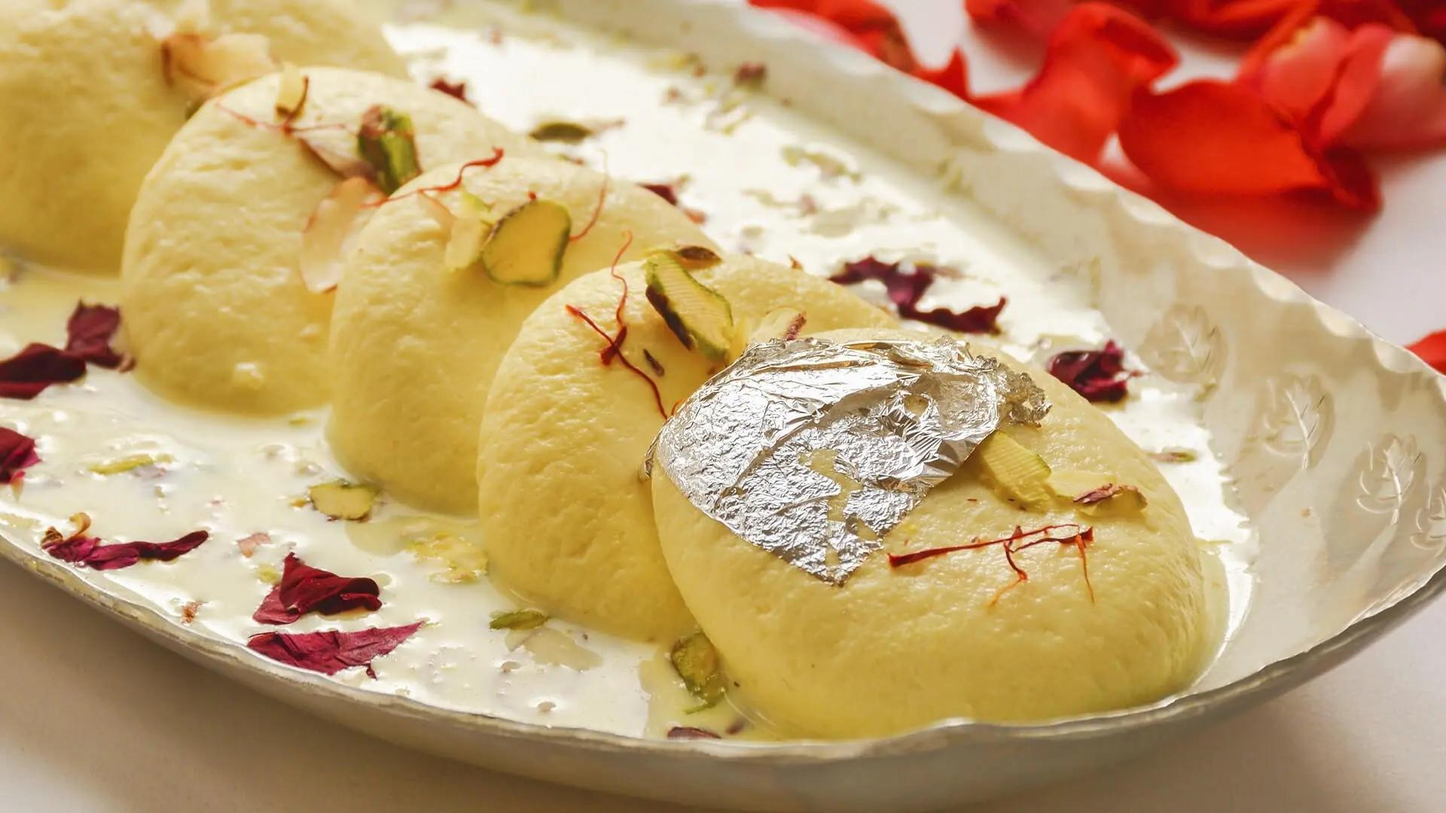RasMalai: (0, 0, 1268, 747)
